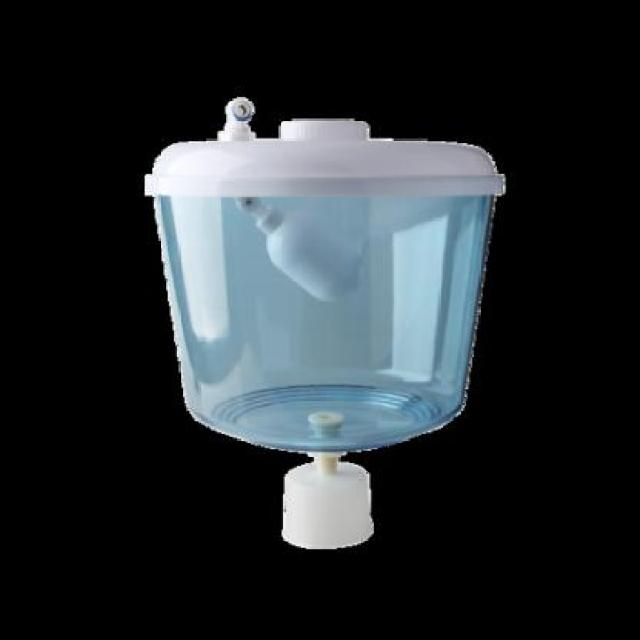coolerbottle: (137, 135, 508, 457)
